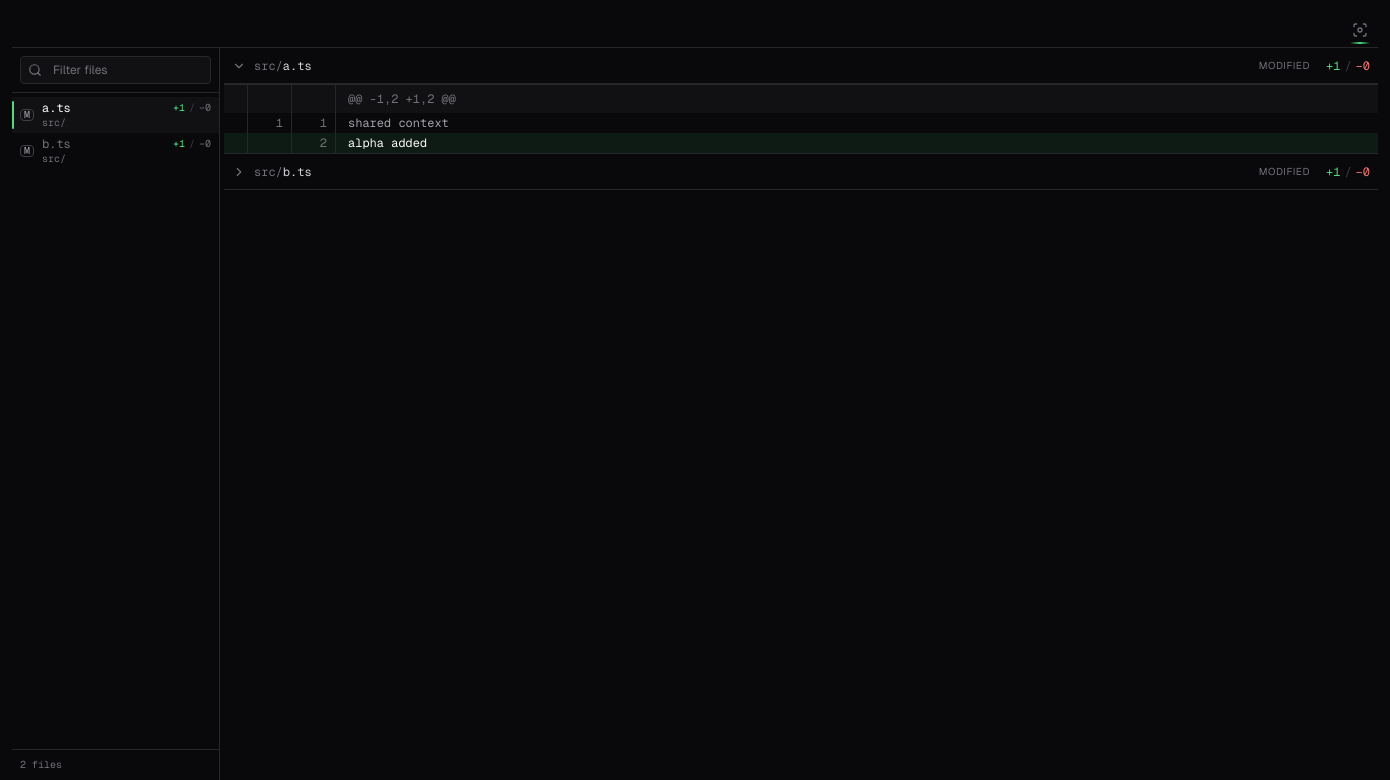
it: DiffView › selecting a file in the rail expands it and collapses the previous one
Click the button "M b.ts src/ +1/−0".
click(116, 151)  # box [12, 133, 219, 169]
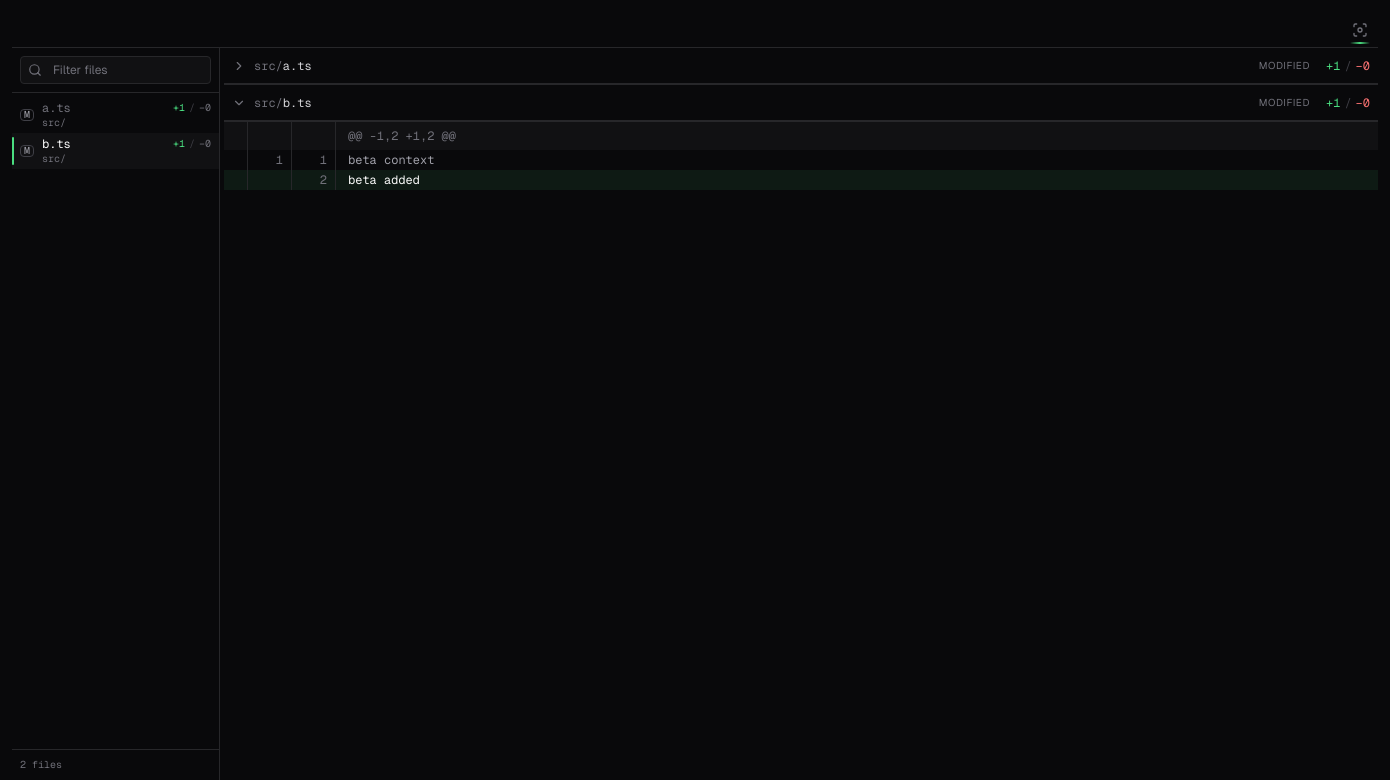
Now the text "beta added" is shown, box [348, 172, 420, 188]
Now the text "alpha added" is gone
